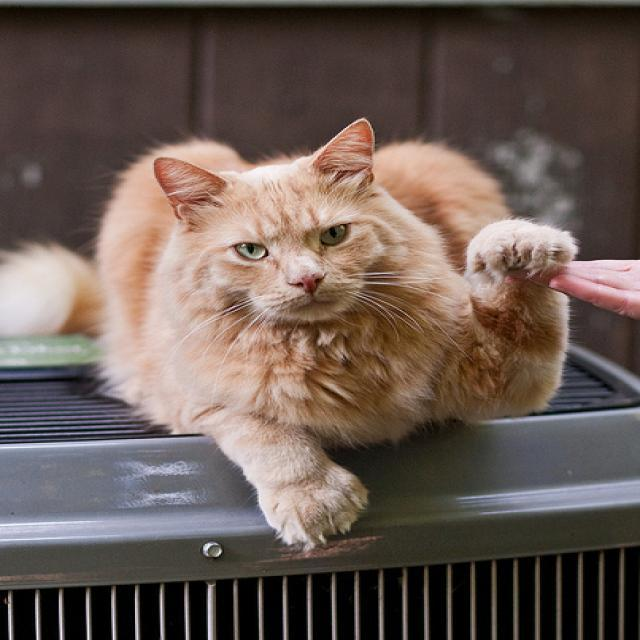Maine_Coon: (153, 115, 380, 319)
